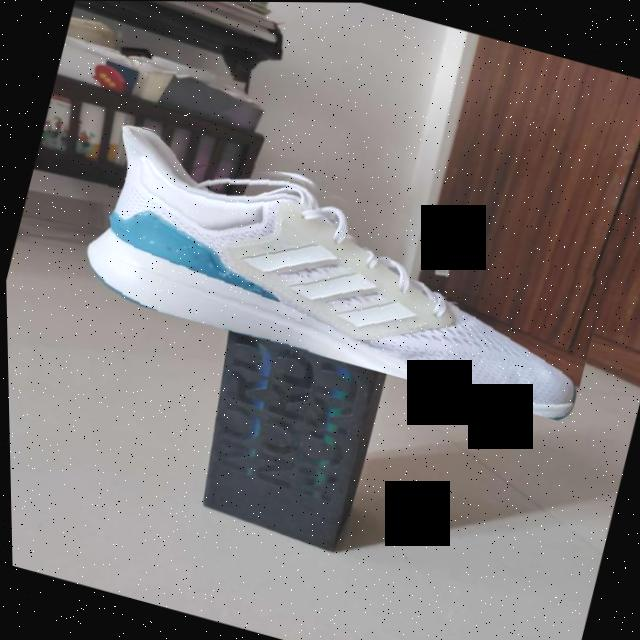shoe: (69, 118, 614, 423)
